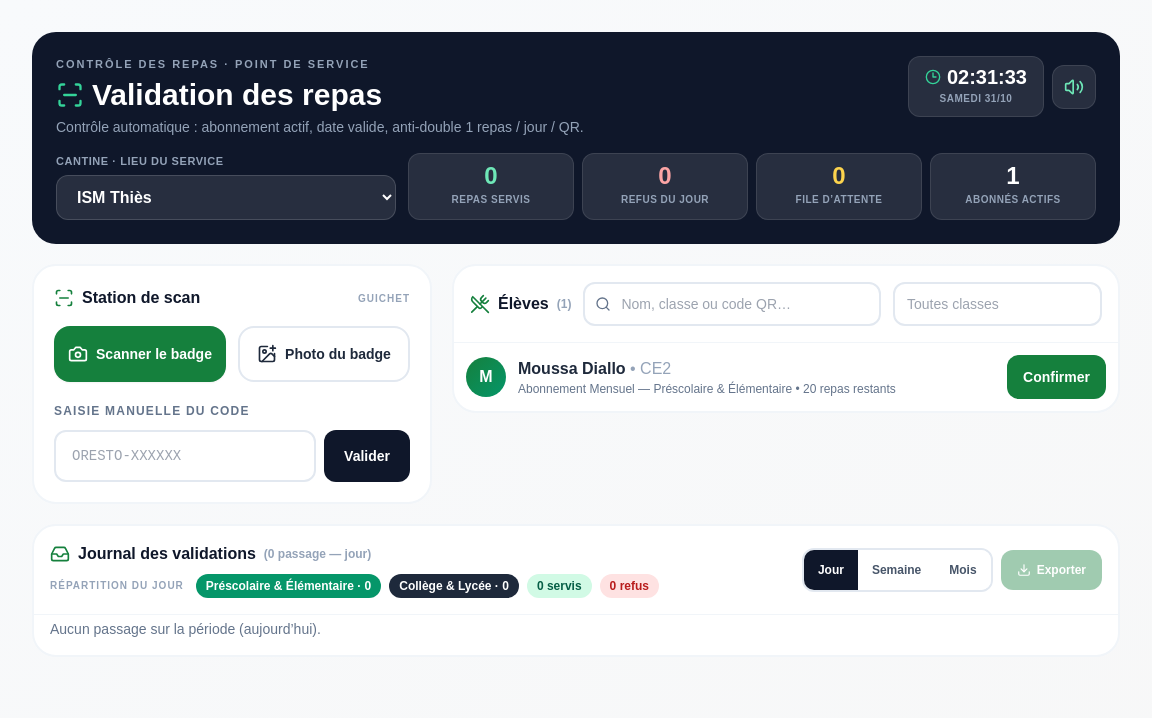
Poste de service — ValidationPage (espace Personnel) › refuse le service sans cantine sélectionnée avec un message clair
Select "" in the dropdown labelled "Cantine · lieu du service" at x=226, y=198, box x1=56 y1=175 x2=396 y2=220
Click the button with aria-label "préparer le repas de moussa diallo".
click(1057, 377)  # box x1=1007 y1=355 x2=1106 y2=399
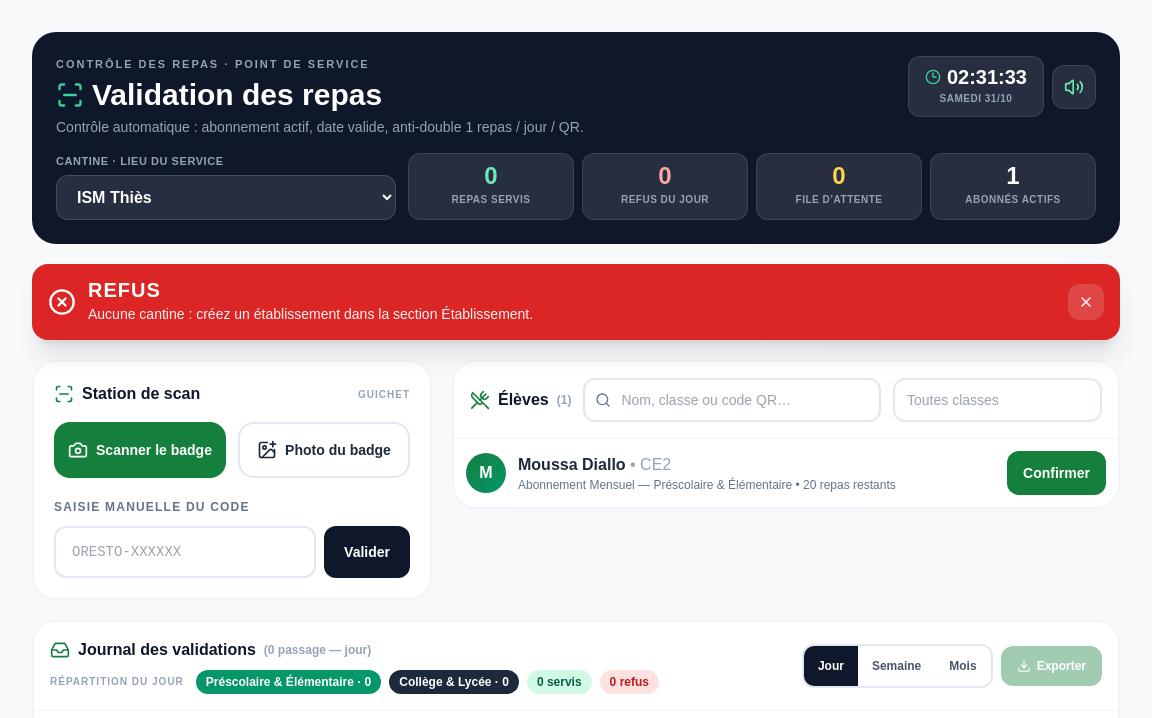
Result: the message shows "Aucune cantine" at x1=88 y1=306 x2=533 y2=322
